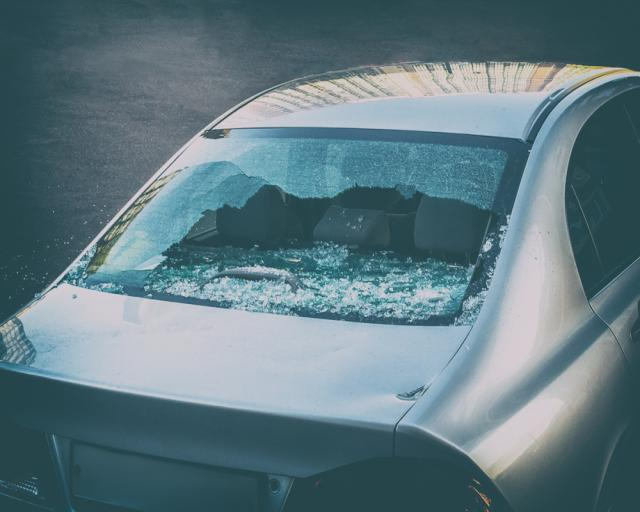dent: (353, 367, 435, 413)
glass shatter: (61, 128, 531, 325)
